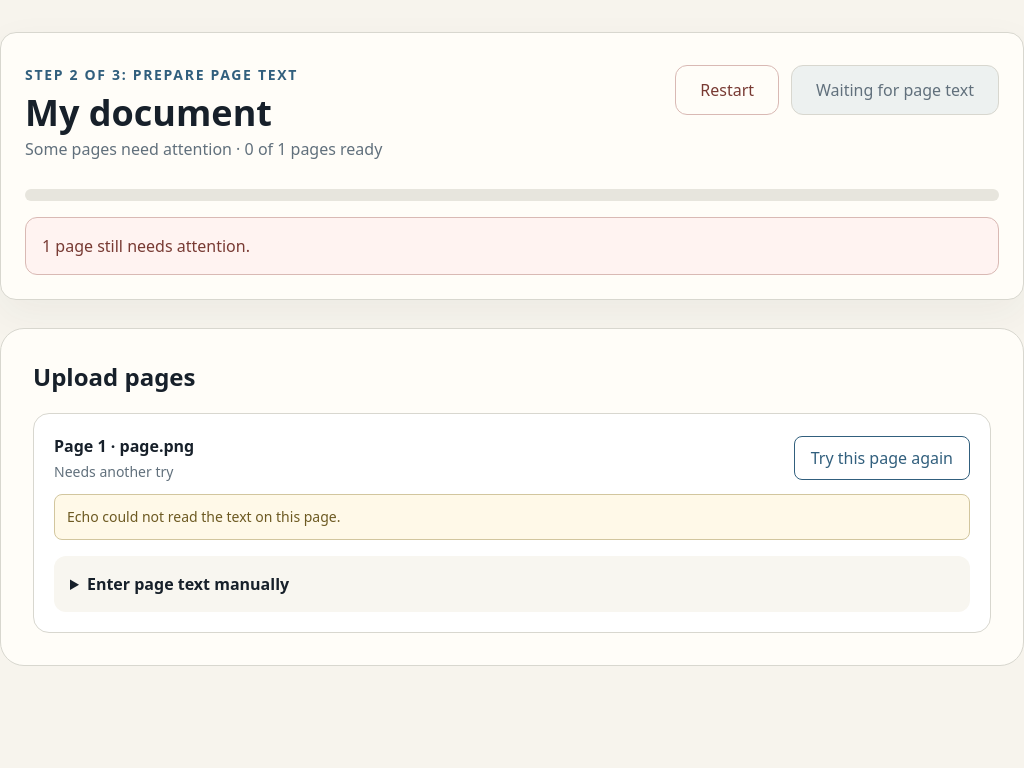
Test: document text preparation › retries a failed page
What coordinates should you click on to do the following:
click the button "Try this page again"
I would click on:
 (882, 458)
Its box is left=794, top=436, right=970, bottom=480.
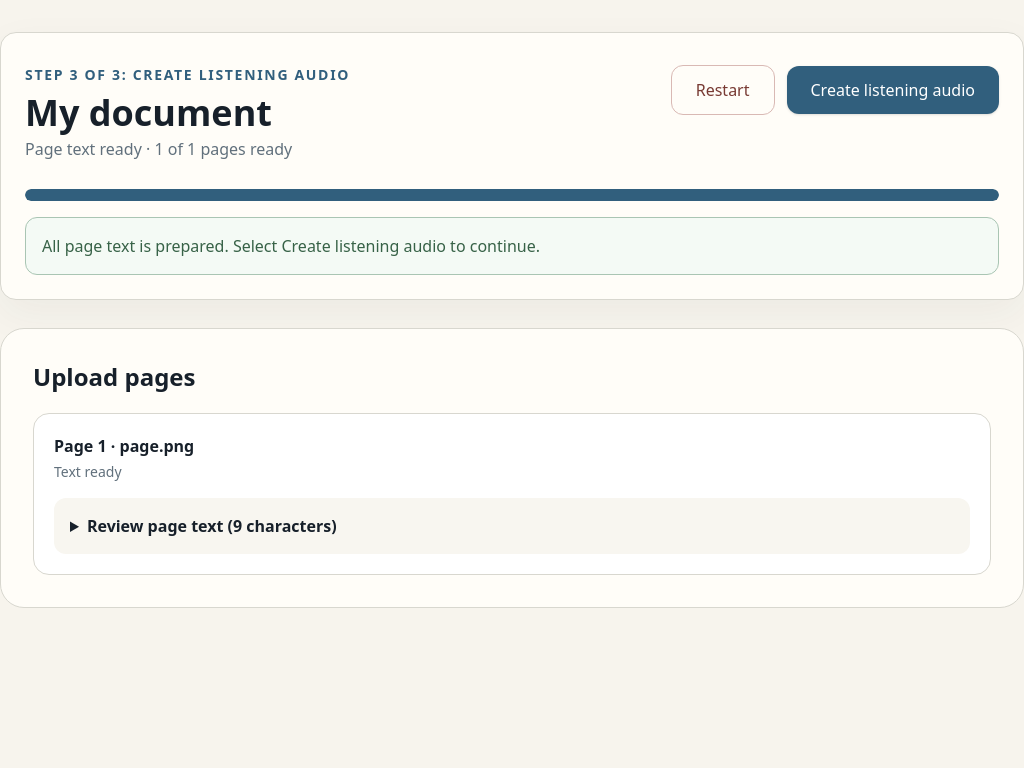
Now the text "Page text ready · 1 of 1 pages ready" is shown, box left=25, top=138, right=292, bottom=160
